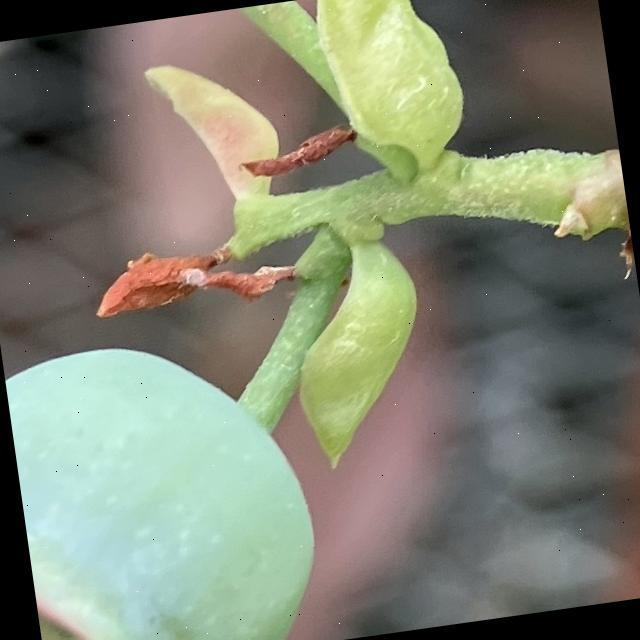Blueberries: (2, 315, 335, 640)
